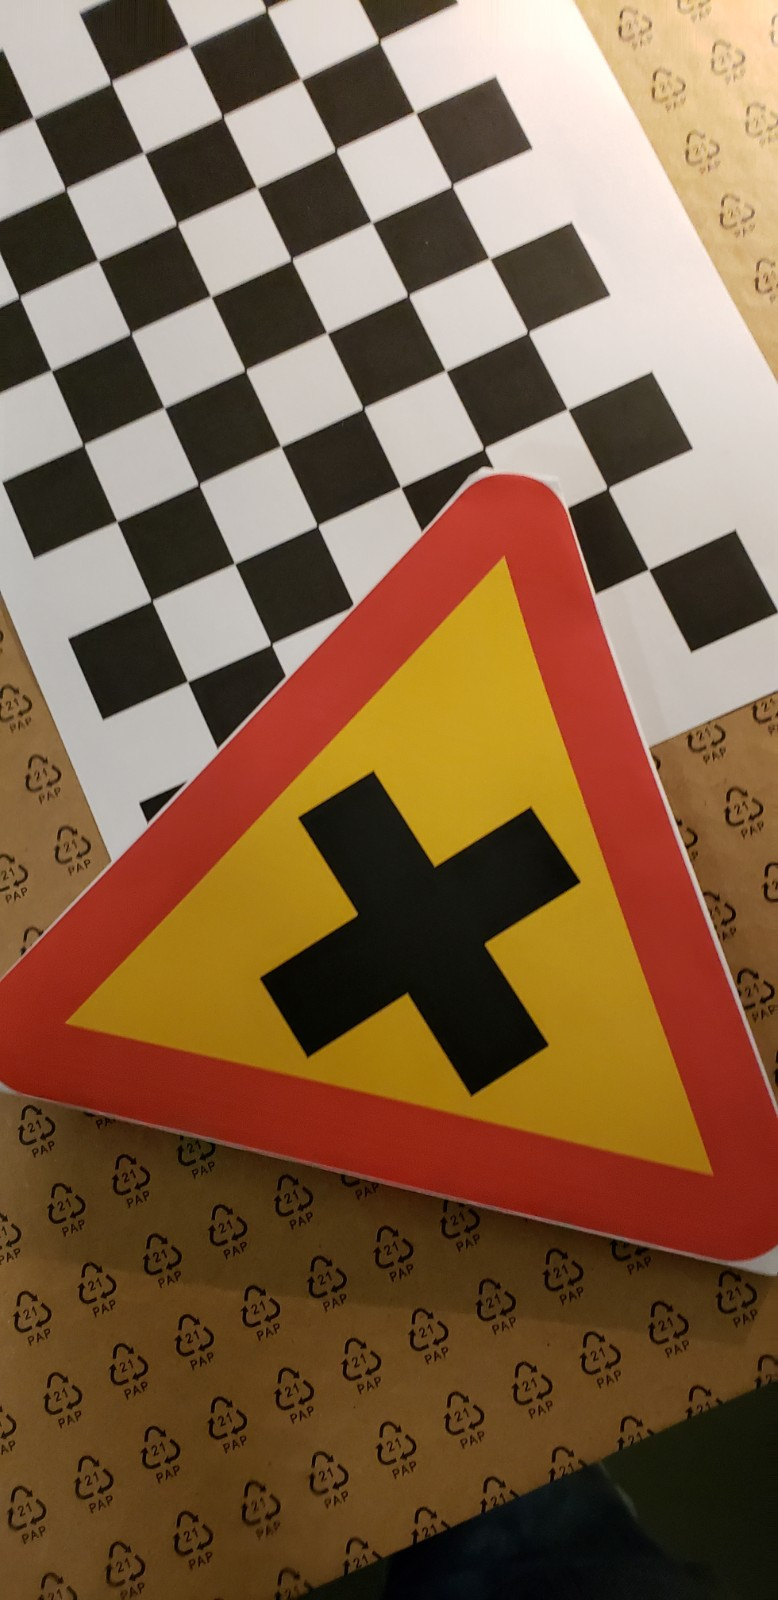junction: (29, 430, 778, 1288)
